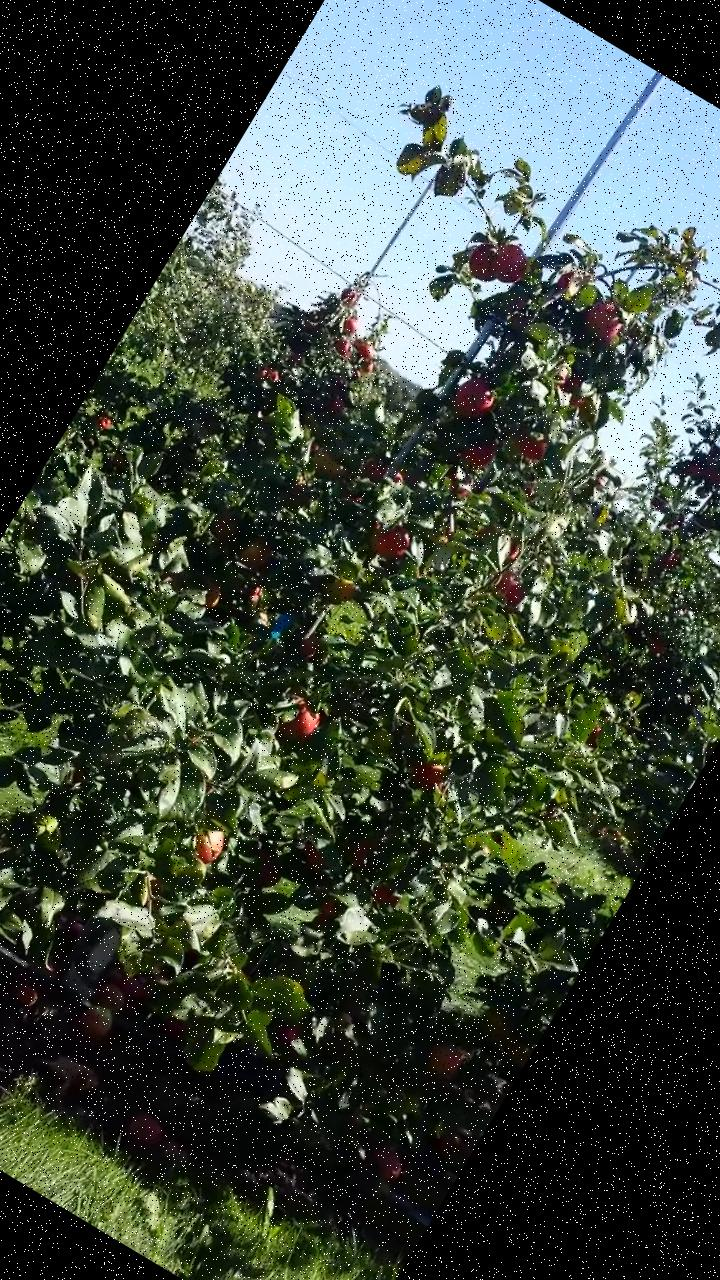Apple: (270, 690, 329, 751), (446, 372, 502, 429), (363, 512, 419, 568), (482, 236, 536, 291), (580, 298, 632, 351), (543, 365, 597, 416), (458, 236, 509, 288), (422, 1036, 470, 1088), (483, 567, 533, 616), (186, 821, 234, 869), (407, 751, 454, 796), (456, 427, 502, 471), (308, 447, 352, 487), (512, 427, 554, 466), (438, 466, 478, 504), (252, 852, 288, 892), (236, 536, 273, 572), (346, 834, 379, 874), (295, 842, 331, 875), (357, 455, 390, 488), (330, 572, 362, 605), (209, 513, 240, 545), (198, 582, 228, 614), (500, 534, 529, 566), (231, 718, 260, 748), (371, 881, 400, 910), (552, 266, 580, 296), (315, 896, 343, 924), (294, 634, 323, 661), (279, 1022, 303, 1047), (585, 724, 608, 750), (392, 472, 411, 489)
